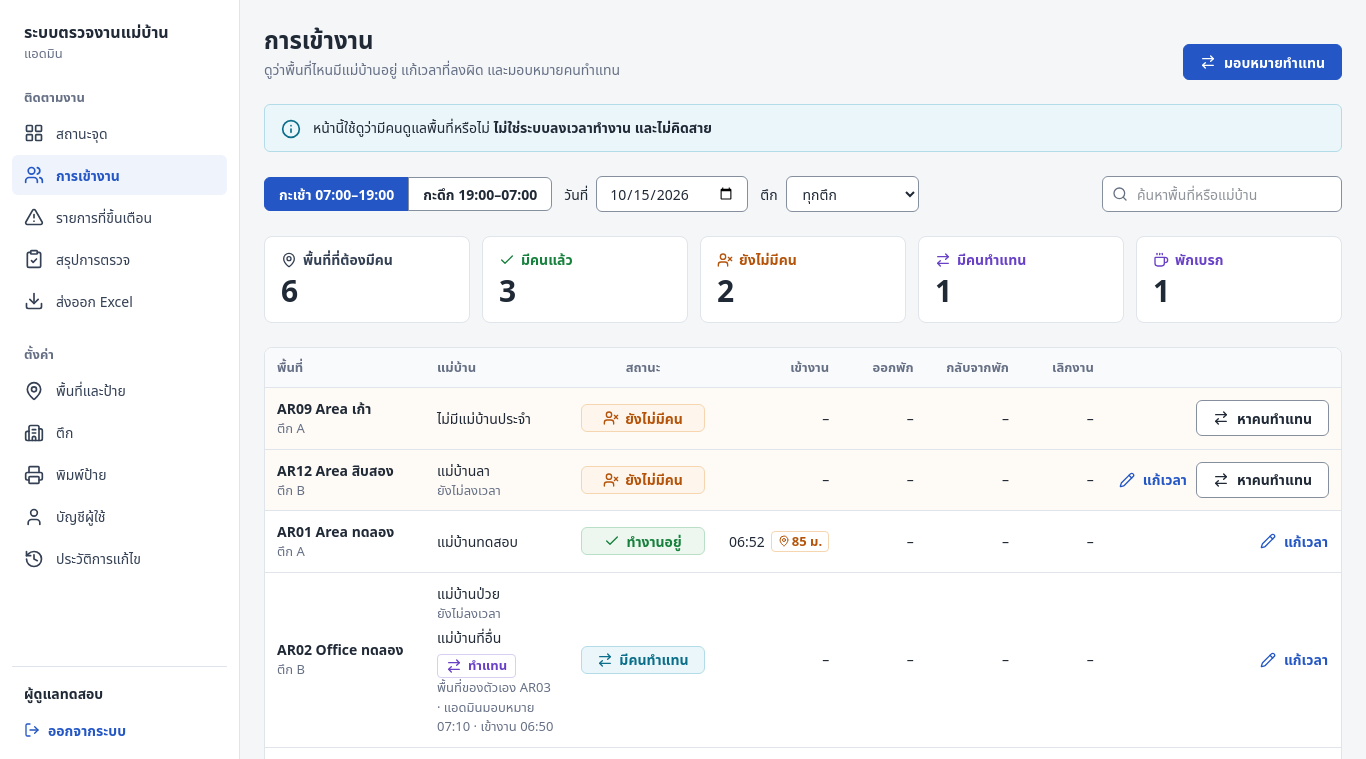
Test case: attendance corrections (D2, facility-0051) › แก้เวลา shows all four times: what is recorded, a box for each, and the one not scanned first tinted
Click the button with aria-label "แก้เวลา แม่บ้านทดสอบ": (1294, 541) [1259,523,1329,559]
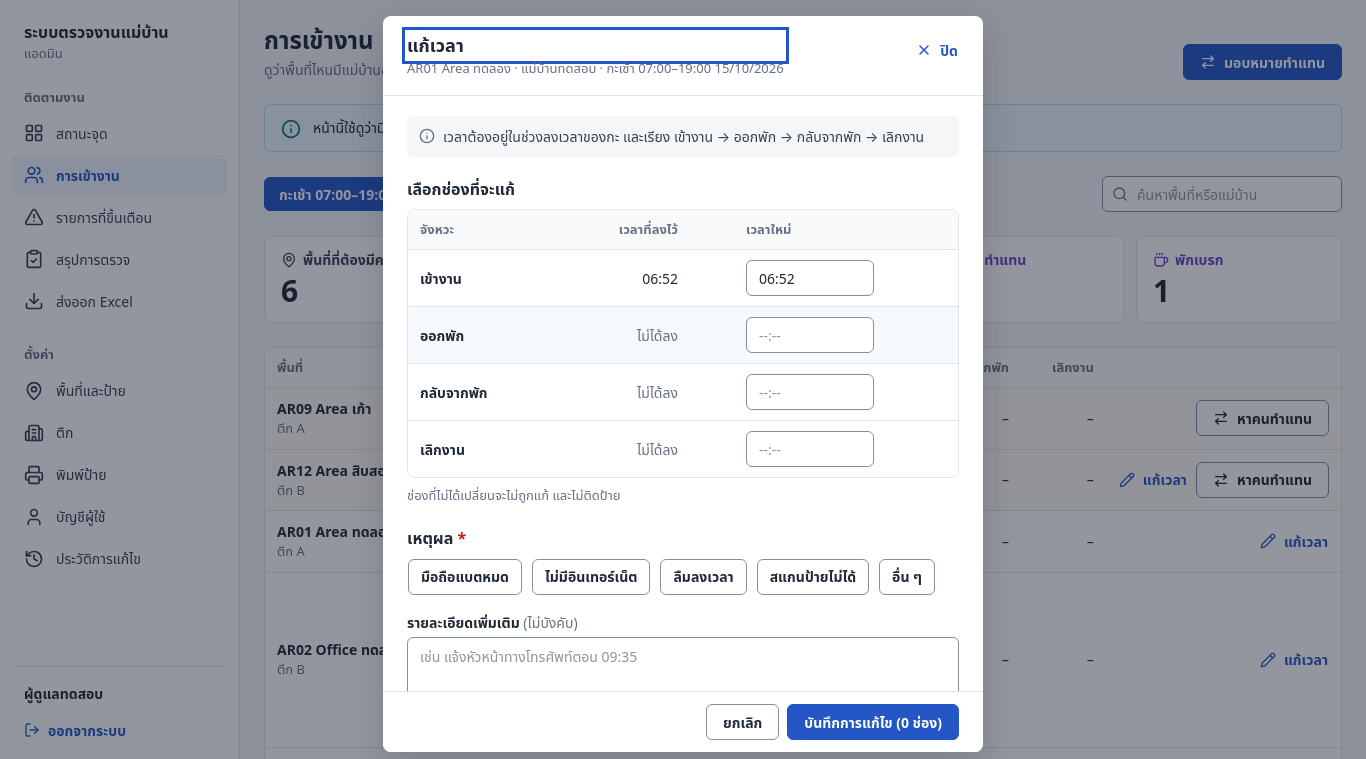
Check: the field named "เวลาใหม่ เข้างาน" holds "06:52"
Replace the text in the field named "เวลาใหม่ เข้างาน" with "06:58": (810, 278) [746,260,874,296]
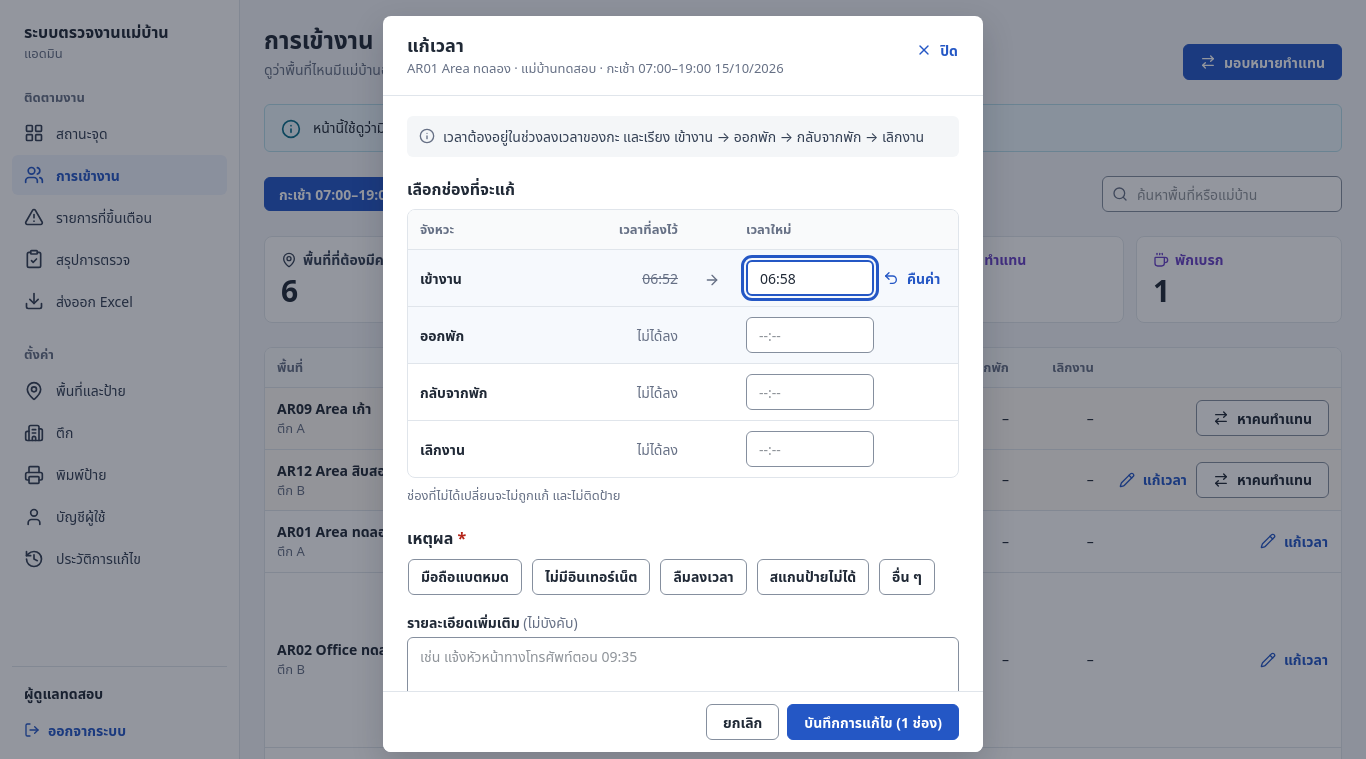
Click the button with aria-label "คืนค่าเข้างาน": (912, 278) [882,260,941,296]
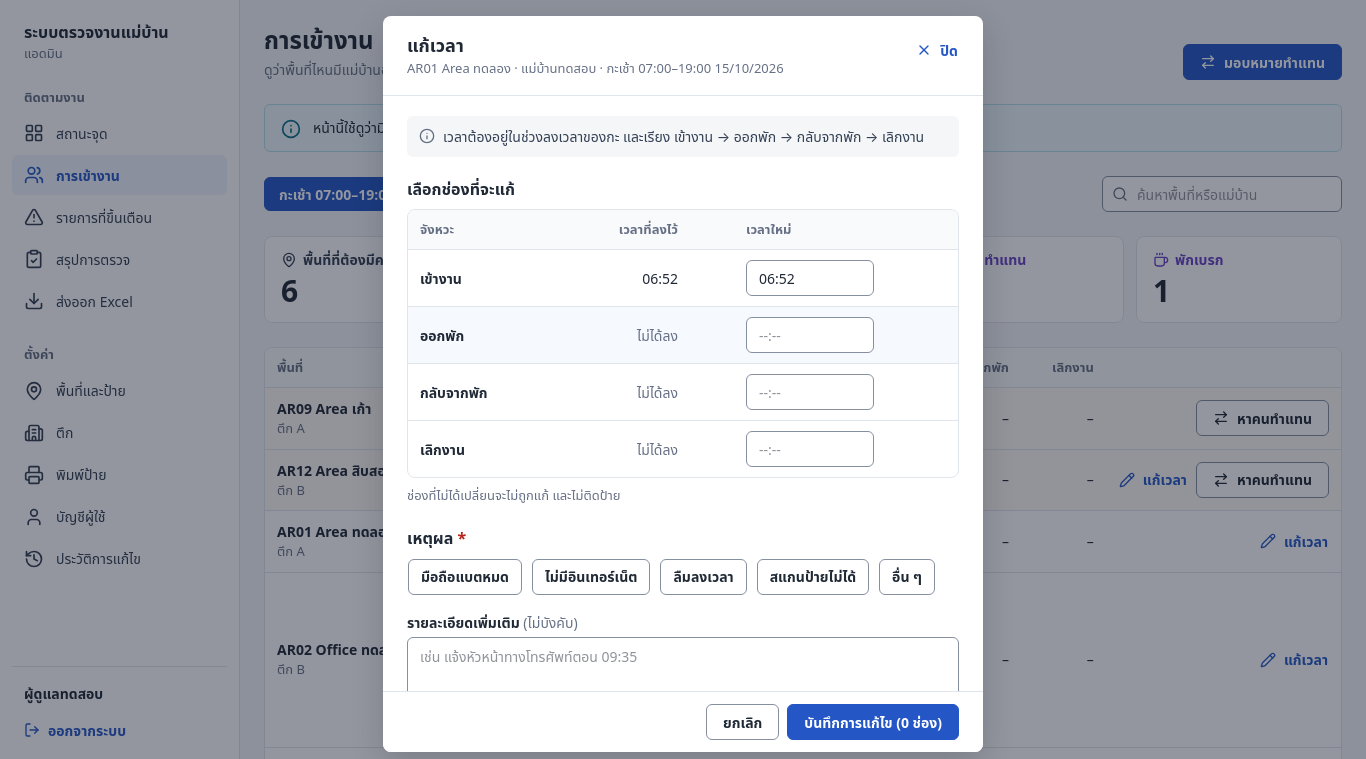
Check: the field named "เวลาใหม่ เข้างาน" holds "06:52", box [746,260,874,296]
Click the button "ยกเลิก": (743, 722) [706,704,779,740]
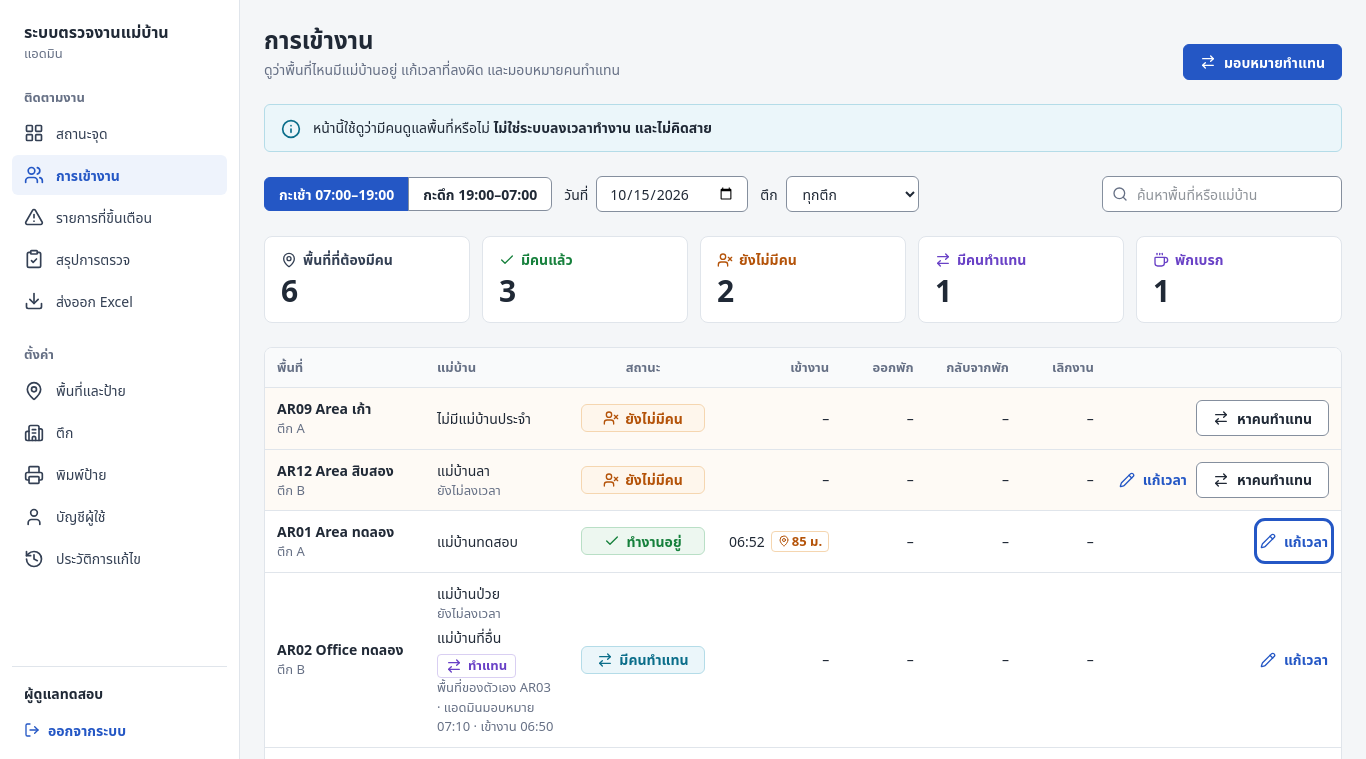
Check: the dialog is gone
